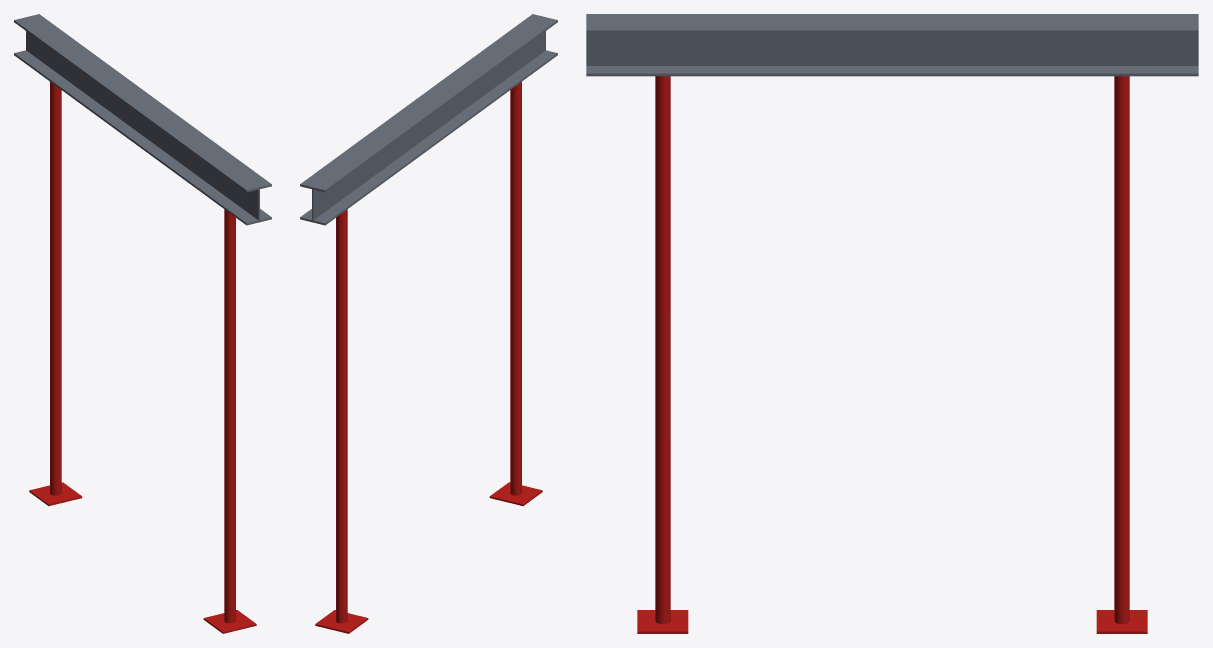
File: plant.temporary.needle_and_props.glb
3 views of the same model, side by side, from view 1: azimuth 30°, elevation 25°; view 2: azimuth 150°, elevation 25°; view 3: azimuth 270°, elevation 25° (orthographic). The views are drawn at different scales.
Parts seen in each view (by area): view 1: main__steel_painted, main__hazard_red; view 2: main__steel_painted, main__hazard_red; view 3: main__steel_painted, main__hazard_red.
Part boxes in pixels (x1=…): main__steel_painted: x1=14, y1=14, x2=271, y2=225; main__hazard_red: x1=29, y1=82, x2=256, y2=633; main__steel_painted: x1=300, y1=14, x2=557, y2=225; main__hazard_red: x1=315, y1=82, x2=542, y2=633; main__steel_painted: x1=586, y1=14, x2=1198, y2=76; main__hazard_red: x1=637, y1=76, x2=1147, y2=633.
Bounding box in the file's own units: 0.2 × 2.6 × 2.4.
